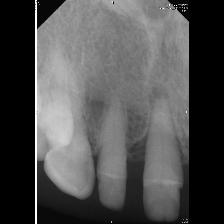apical_lesion: (139, 56, 185, 223)
